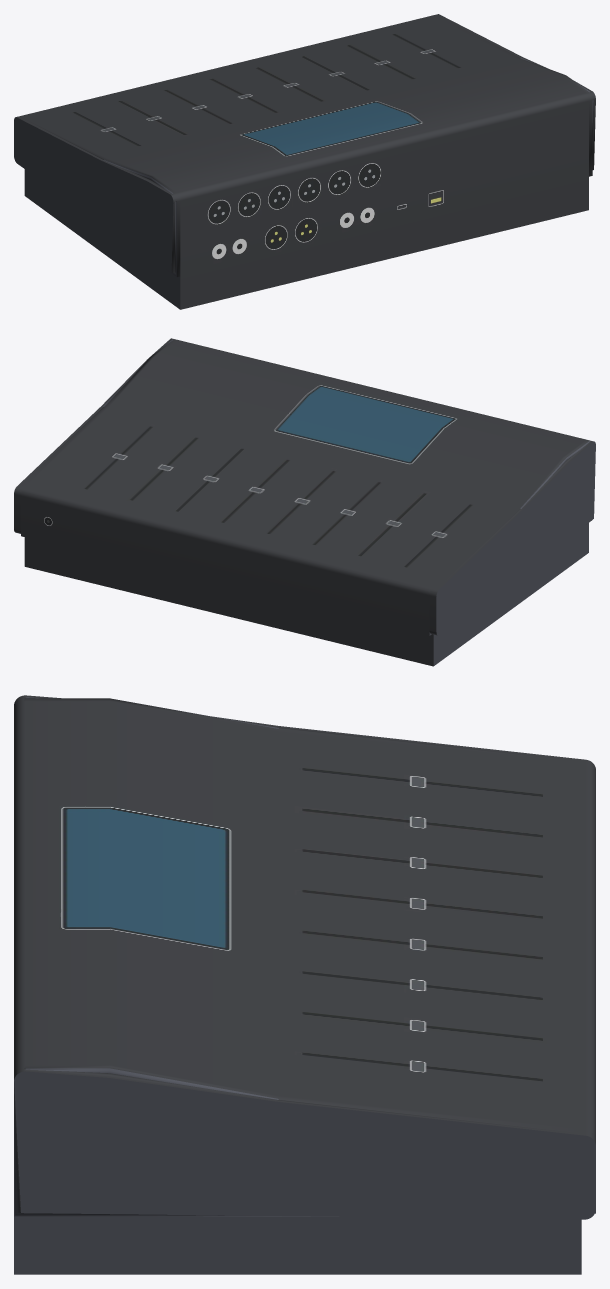
Rendered from roland-vr-6hd.glb.
3 views of the same model, one above another, from view 1: azimuth 30°, elevation 25°; view 2: azimuth 150°, elevation 25°; view 3: azimuth 270°, elevation 25° (orthographic). The views are drawn at different scales.
Visible parts, largest first — view 1: roland-vr-6hd-body; view 2: roland-vr-6hd-body; view 3: roland-vr-6hd-body.
Boxes of the visible parts, x1=… form: roland-vr-6hd-body: x1=14, y1=14, x2=595, y2=309; roland-vr-6hd-body: x1=14, y1=338, x2=595, y2=666; roland-vr-6hd-body: x1=14, y1=695, x2=595, y2=1274.
Size of the model in its own units: 0.37 by 0.1 by 0.242.
1 material, 1 textured.
